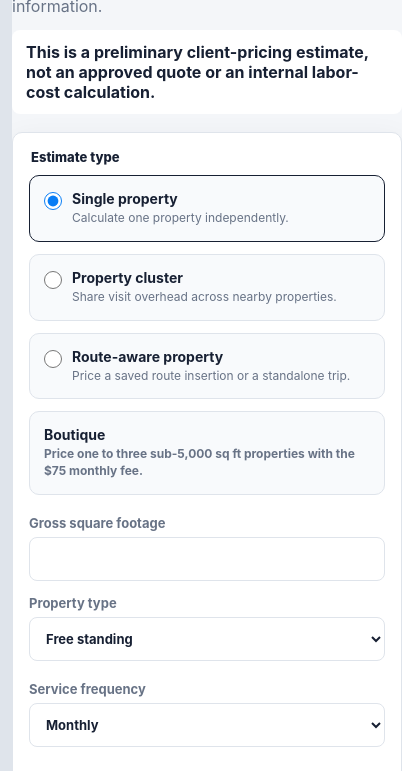
Test: route-aware pricing requires a confirmed address result
Click the radio button labelled "Route-aware property" at [53, 359], box x1=44 y1=350 x2=62 y2=368
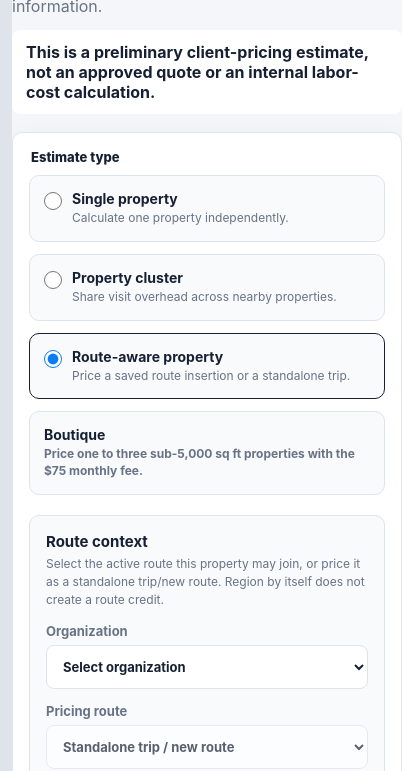
Select "Example Organization" in the dropdown labelled "Organization" at [207, 667], box x1=46 y1=645 x2=368 y2=689
(page scrolled)
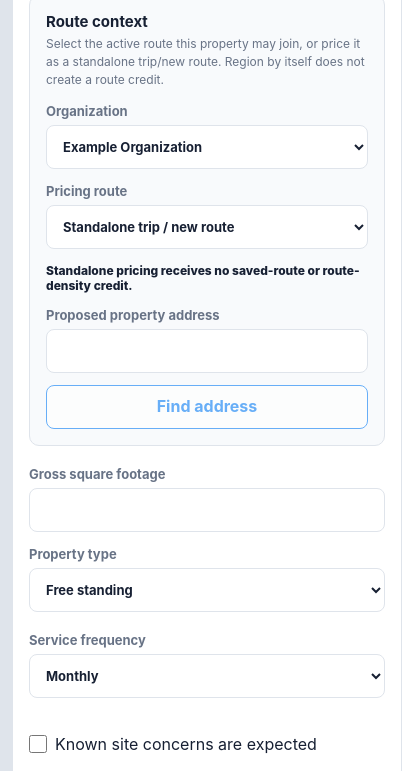
Type "100 Example Road, Tucson, AZ" into the field labelled "Proposed property address" at [207, 351], box x1=46 y1=329 x2=368 y2=373
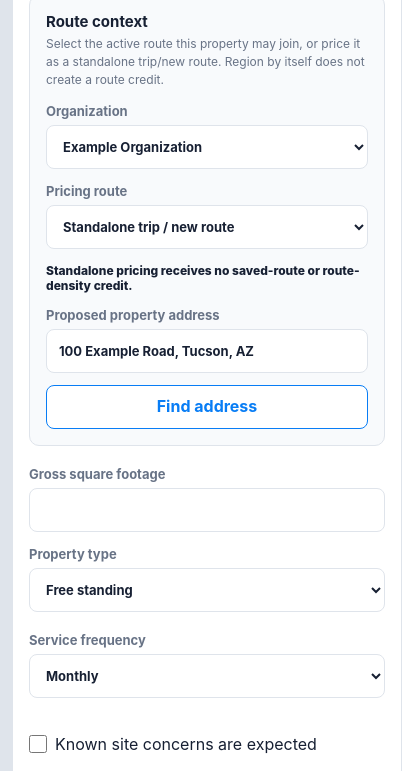
Type "18000" into the number field labelled "Gross square footage" at [207, 510], box x1=29 y1=488 x2=385 y2=532
(page scrolled)
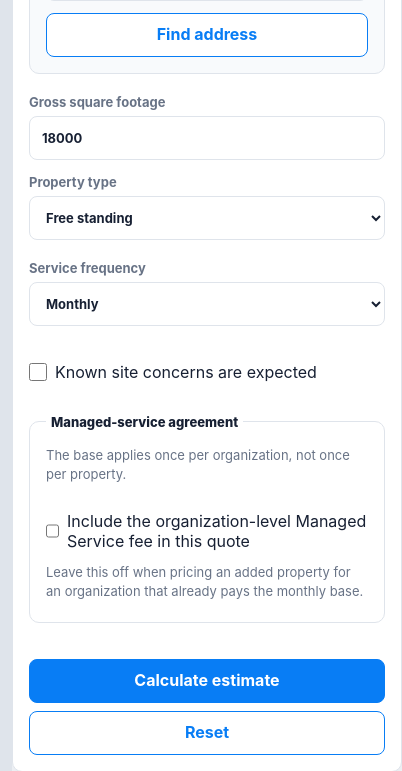
Click the button "Calculate estimate" at [207, 681], box x1=29 y1=659 x2=385 y2=703
(page scrolled)
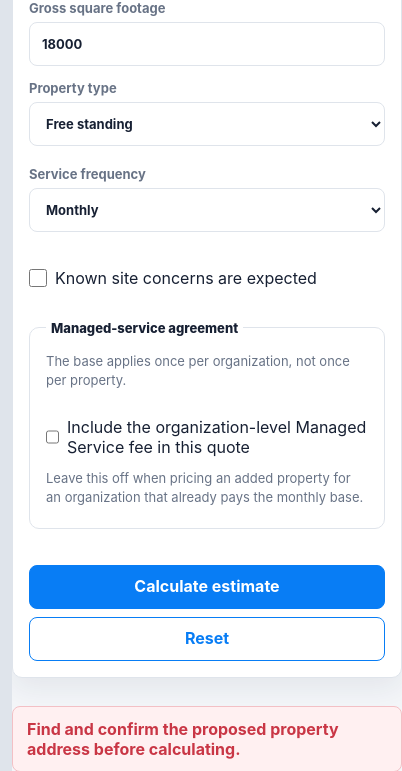
Check: the message reads "Find and confirm the proposed property address before calculating.", box x1=27 y1=719 x2=338 y2=759
